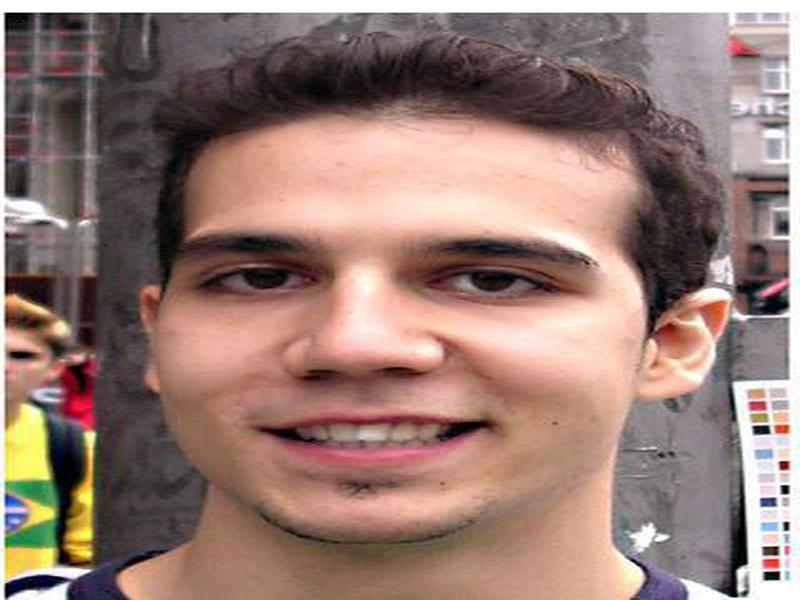without_mask: (144, 121, 642, 551)
